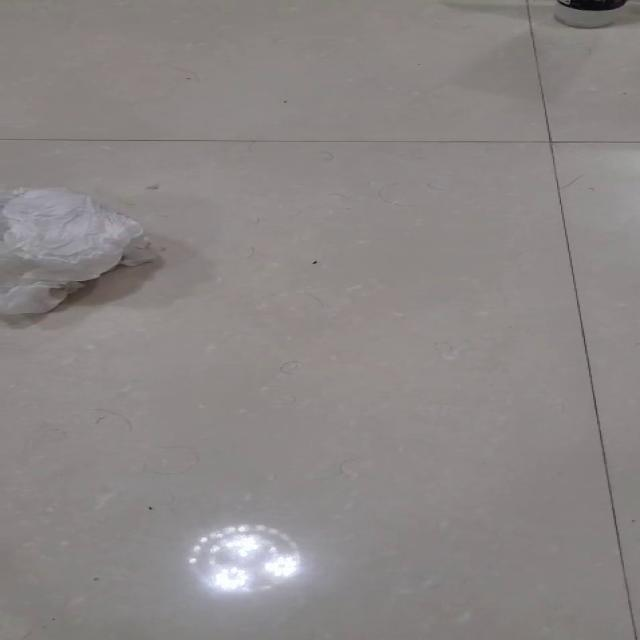plastic: (0, 185, 155, 314)
